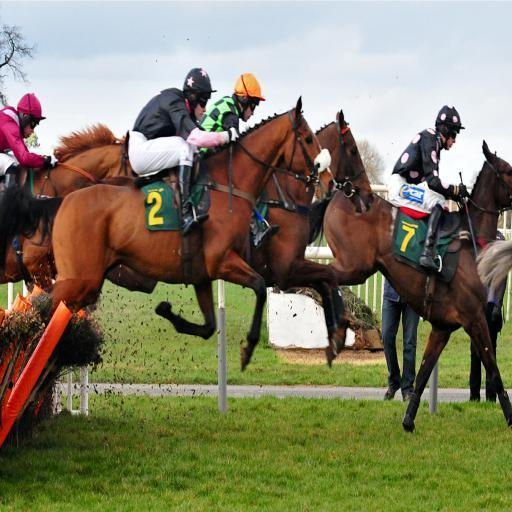horse: (46, 92, 338, 372), (112, 108, 348, 366), (308, 130, 512, 426), (0, 124, 141, 288)
